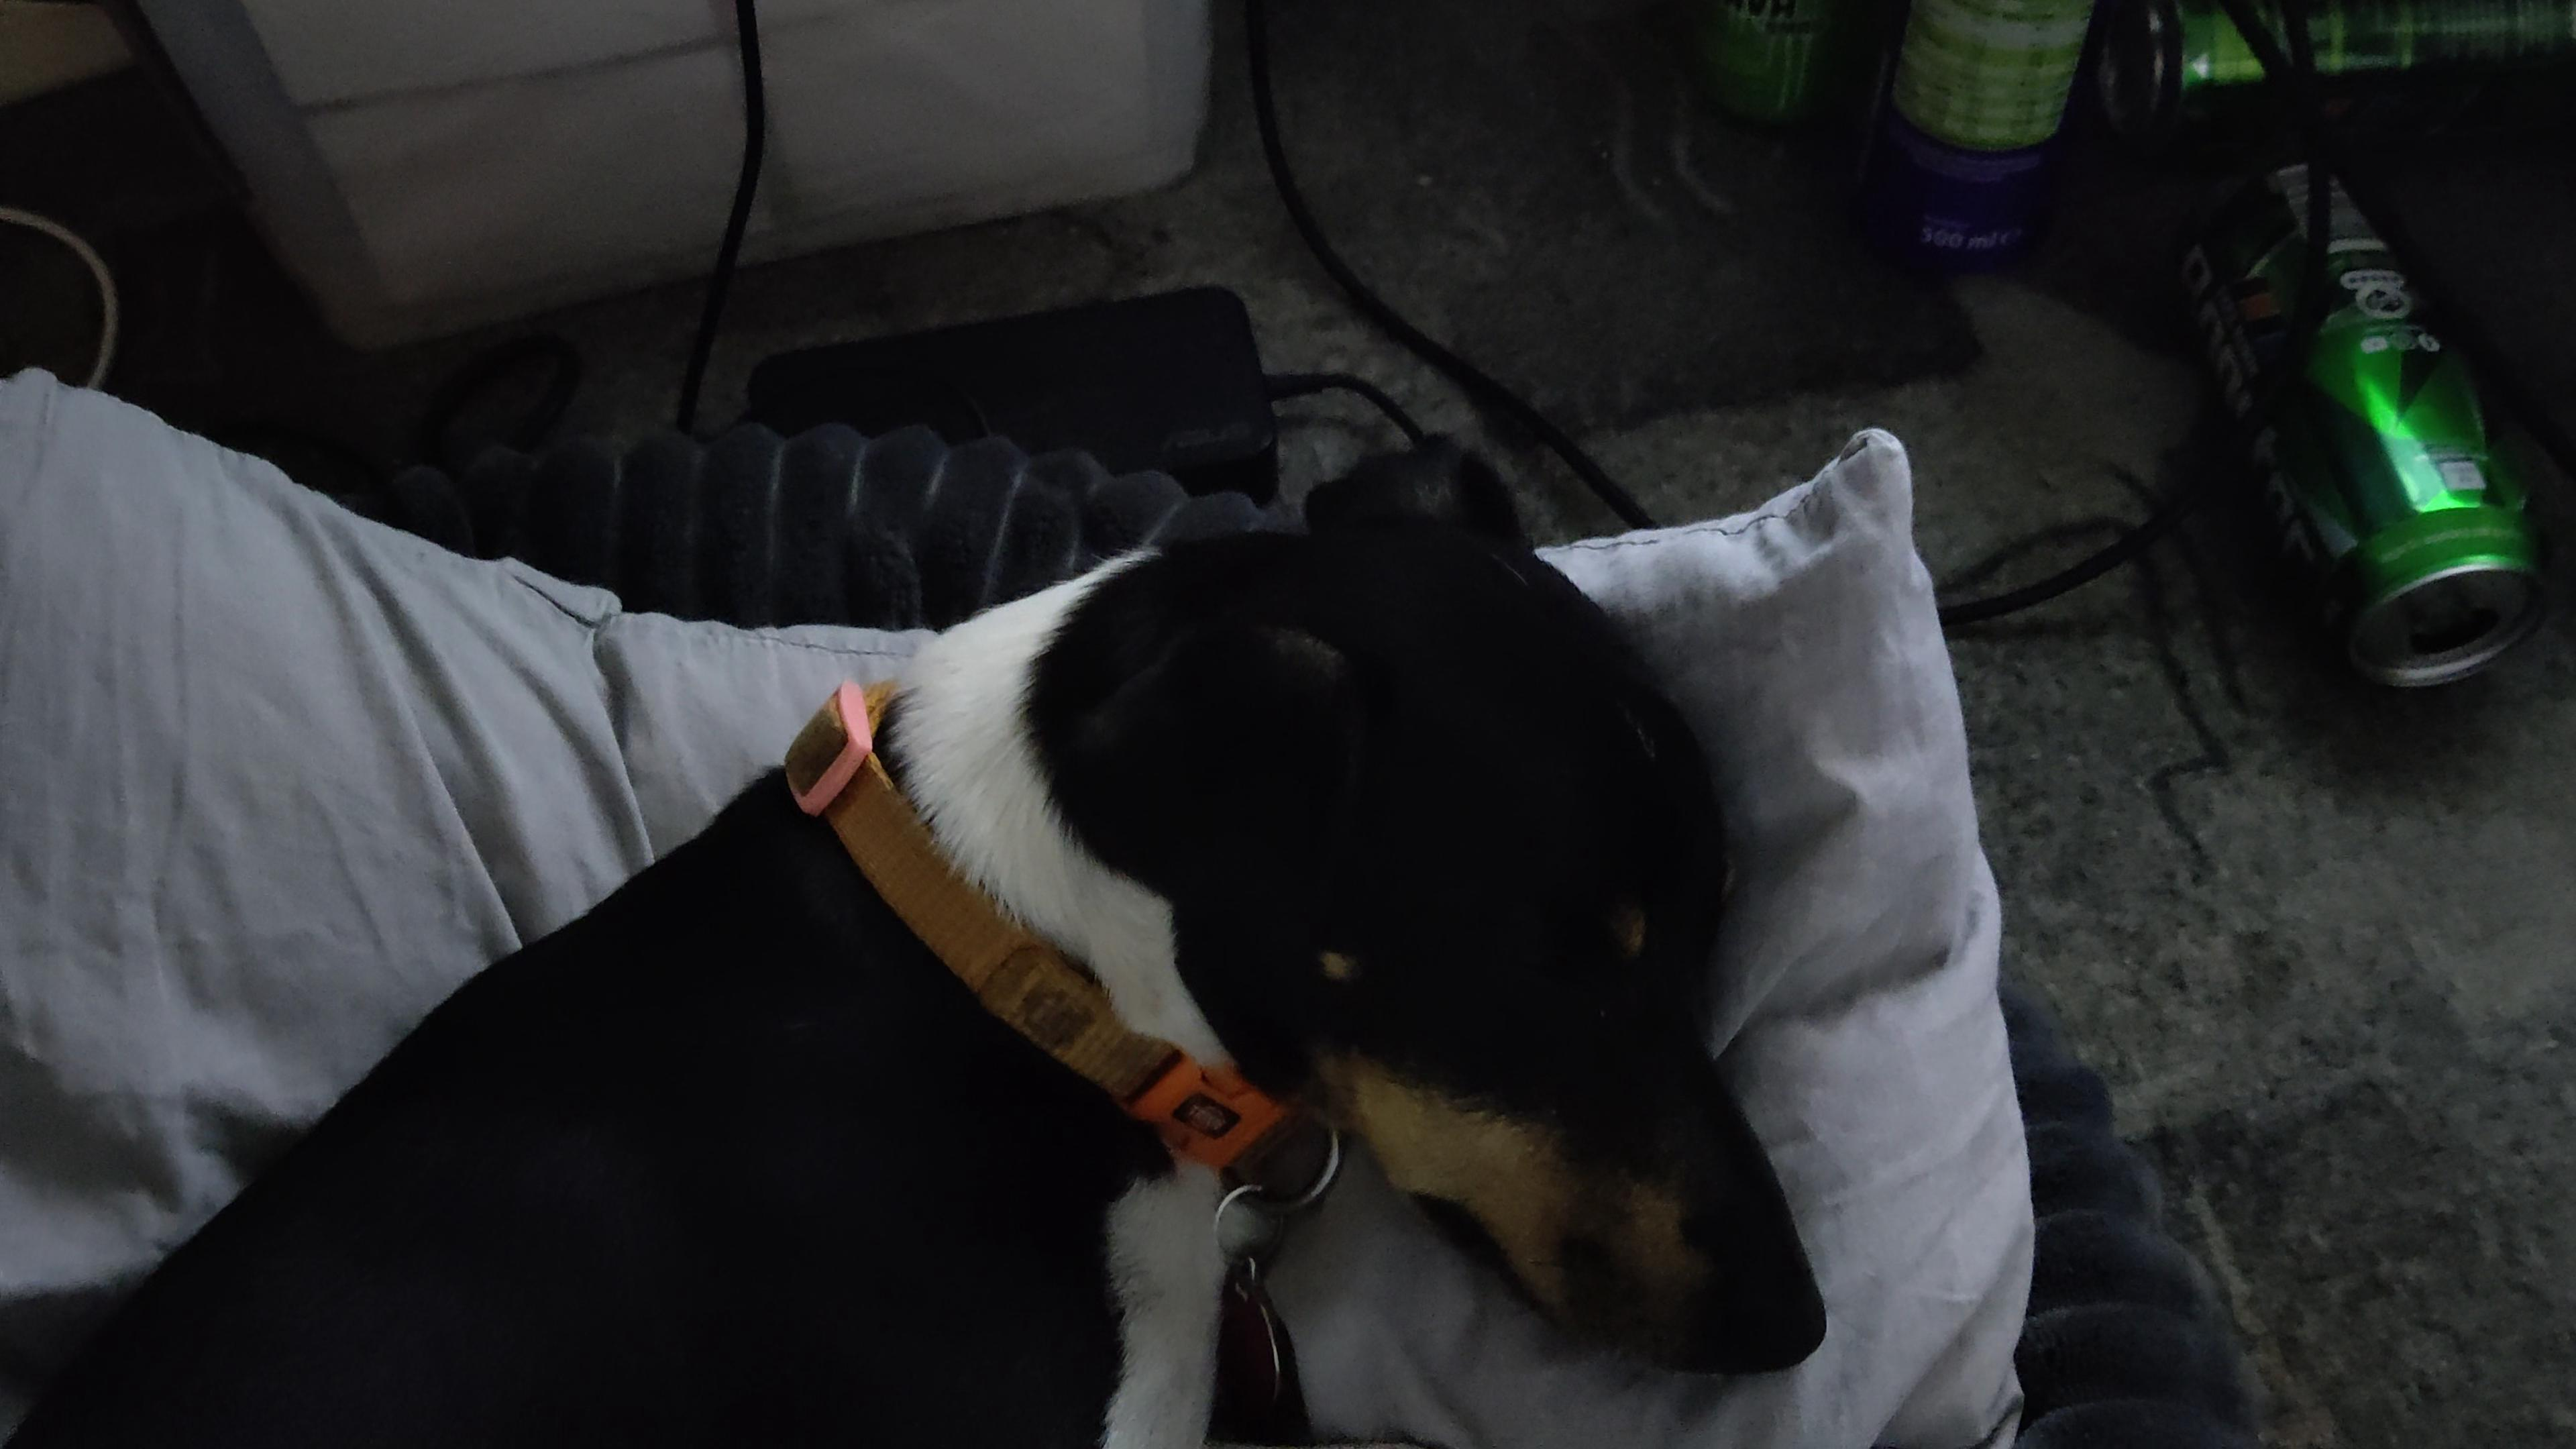Dog: (0, 407, 1835, 1449)
